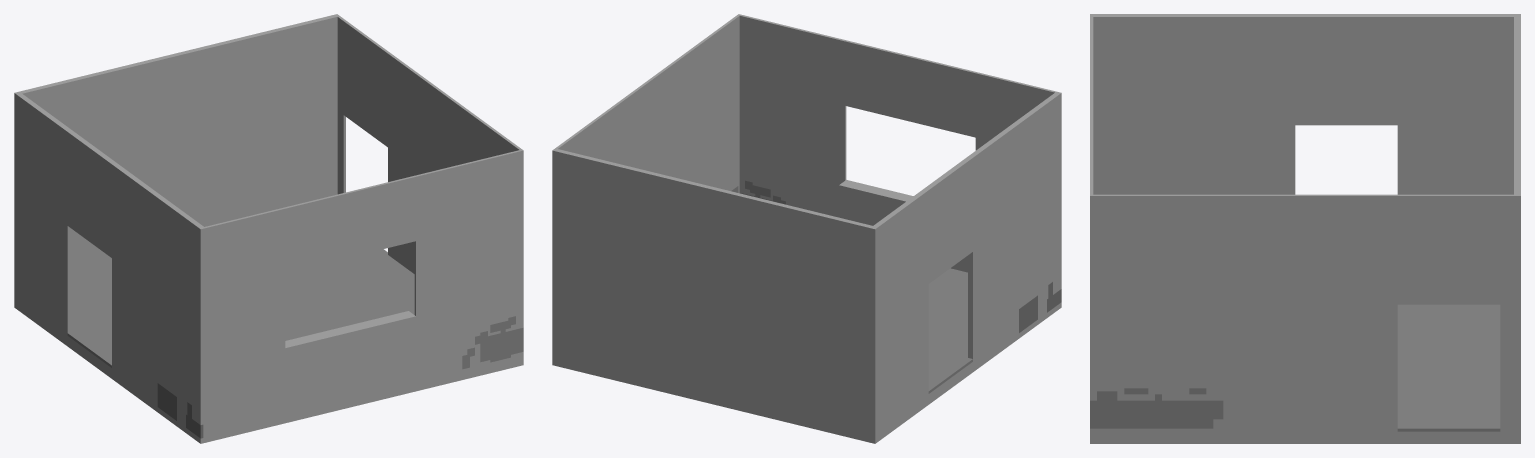
Rendered from 4x2 first (1)-0.obj.
3 views of the same model, side by side, from view 1: azimuth 30°, elevation 25°; view 2: azimuth 150°, elevation 25°; view 3: azimuth 270°, elevation 25° (orthographic). The views are drawn at different scales.
Parts seen in each view (by area): view 1: 4x2 first (1)-0; view 2: 4x2 first (1)-0; view 3: 4x2 first (1)-0.
Part boxes in pixels (x1,y1,x2,y2): 4x2 first (1)-0: (14, 14, 523, 443); 4x2 first (1)-0: (552, 14, 1061, 443); 4x2 first (1)-0: (1090, 14, 1520, 443).
Size of the model in its own units: 126 by 80 by 126.
Materials: 1 (1 with a texture image).
